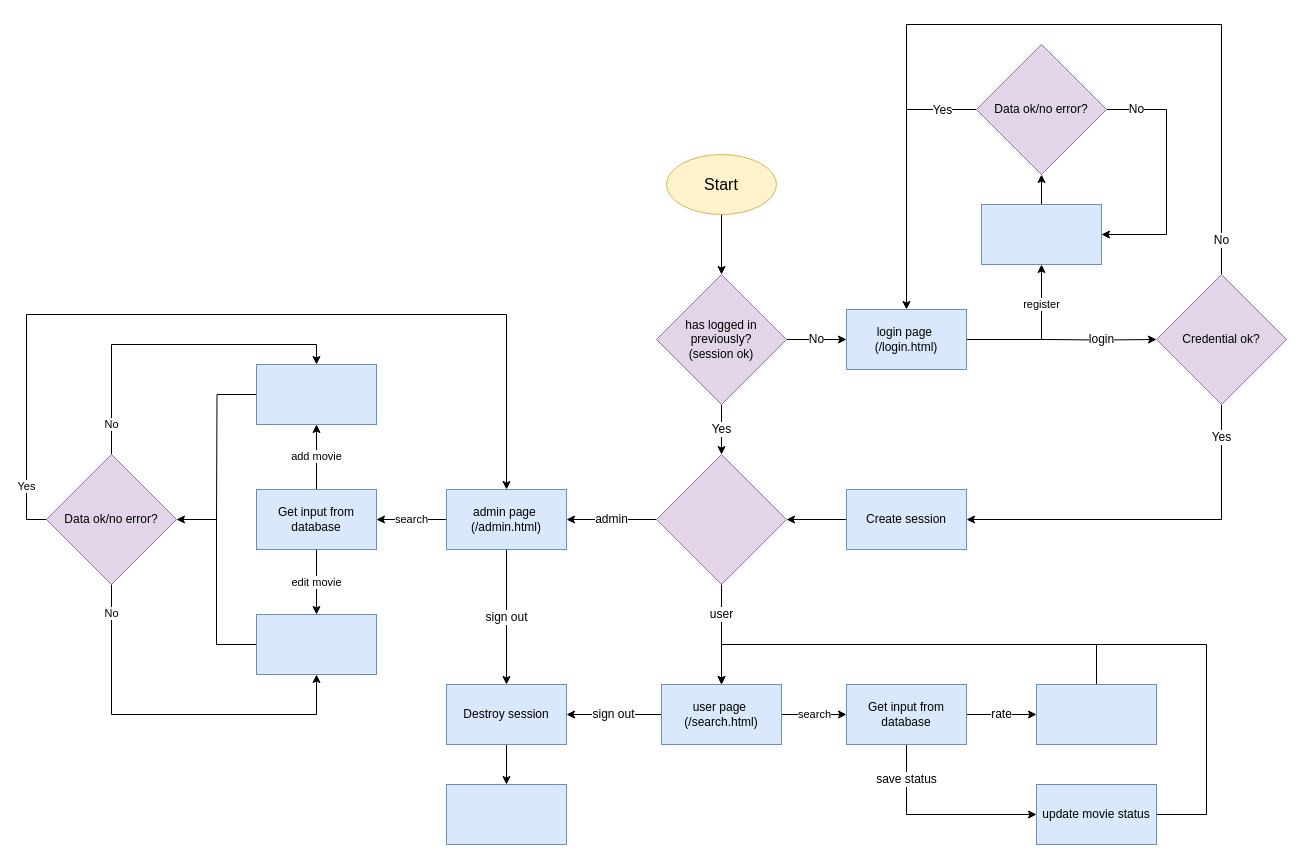
The diagram is 1304 pixels wide and 862 high, and some of its shapes have lost their labels. The centre of each missing label's shape, as x and y in pixels:
"Add Page (/admin_add.html)" belongs at pixel 316 394.
"admin or user?" belongs at pixel 721 519.
"Edit Page (/admin.html?title=movie_title)" belongs at pixel 316 644.
"Go back to login page" belongs at pixel 506 814.
"register page (/register.html)" belongs at pixel 1041 234.
"update movie rating" belongs at pixel 1096 714.
